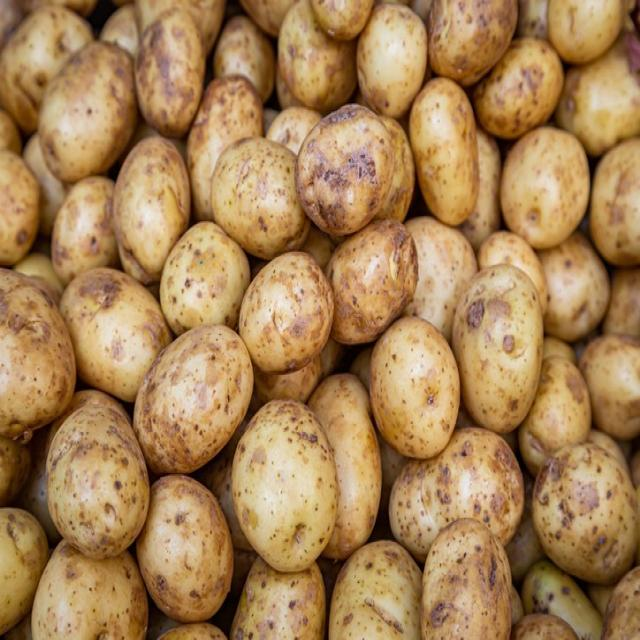potato: (389, 436, 530, 566), (236, 401, 341, 568), (135, 334, 248, 480), (50, 407, 151, 562), (533, 441, 640, 583), (58, 270, 169, 402), (455, 269, 544, 432), (367, 310, 459, 465), (139, 476, 227, 623), (1, 263, 77, 432), (36, 49, 135, 176), (214, 139, 312, 266), (298, 115, 394, 242), (420, 520, 513, 640), (32, 545, 148, 640), (507, 130, 593, 253), (411, 78, 480, 231), (235, 255, 328, 367), (478, 34, 567, 148), (117, 144, 188, 283), (352, 6, 429, 123), (161, 228, 247, 328), (431, 1, 519, 81)
